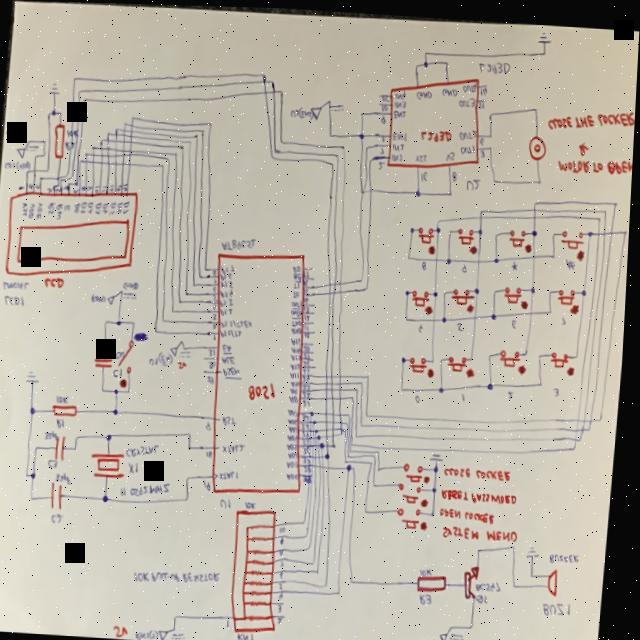capacitor: (53, 479, 68, 509), (57, 433, 69, 461), (95, 354, 116, 369)
crossover: (477, 254, 483, 261), (591, 413, 597, 419), (121, 159, 126, 166), (329, 287, 334, 294), (533, 210, 538, 216), (475, 310, 480, 316), (531, 306, 536, 312), (435, 253, 440, 259), (585, 413, 590, 419), (583, 422, 588, 428), (33, 166, 38, 172), (128, 159, 133, 165), (106, 136, 111, 142), (114, 136, 119, 142), (122, 137, 127, 143), (129, 138, 134, 144), (114, 144, 119, 150), (84, 157, 89, 163), (332, 384, 337, 390), (340, 384, 345, 390), (340, 371, 345, 377), (340, 286, 345, 292), (327, 424, 332, 430), (100, 143, 104, 150), (100, 151, 104, 158), (327, 370, 331, 377), (329, 279, 333, 286), (479, 211, 484, 216), (327, 408, 332, 413), (261, 77, 266, 82), (434, 313, 438, 319), (533, 250, 537, 256), (598, 226, 602, 232), (604, 226, 608, 232), (610, 225, 614, 231), (577, 432, 581, 438), (578, 422, 582, 428), (579, 412, 583, 418), (106, 144, 110, 150), (92, 150, 96, 156), (107, 152, 111, 158), (115, 151, 119, 157), (114, 159, 118, 165), (107, 159, 111, 165), (100, 158, 104, 164), (92, 157, 96, 163), (341, 392, 345, 398), (327, 384, 331, 390), (333, 392, 337, 398), (327, 393, 331, 399), (332, 371, 336, 377), (327, 378, 331, 384), (340, 277, 344, 283), (334, 287, 338, 293), (334, 279, 338, 285), (329, 440, 333, 446), (334, 429, 338, 435), (334, 423, 338, 429), (272, 86, 276, 92), (263, 87, 267, 93), (122, 152, 126, 157), (340, 379, 344, 384), (332, 378, 336, 383), (369, 185, 373, 190), (328, 417, 332, 422), (342, 417, 346, 422), (341, 409, 345, 414), (334, 408, 338, 413), (325, 462, 329, 467), (534, 203, 538, 208), (128, 151, 132, 155), (122, 147, 126, 151), (129, 147, 133, 151), (129, 133, 133, 137), (122, 131, 126, 135), (114, 131, 118, 135), (122, 126, 126, 130), (129, 127, 133, 131), (130, 122, 134, 126), (328, 432, 332, 436), (335, 416, 338, 421), (315, 433, 318, 438), (331, 462, 334, 466), (312, 440, 314, 446), (321, 452, 324, 456), (312, 460, 315, 464), (318, 460, 321, 464), (322, 461, 325, 465), (363, 187, 365, 192), (318, 433, 320, 438), (316, 440, 318, 445), (321, 440, 323, 445), (324, 451, 326, 456), (315, 451, 317, 456), (312, 451, 314, 456), (313, 417, 315, 421), (313, 426, 315, 430), (315, 426, 317, 430), (313, 433, 315, 437), (318, 440, 320, 444), (318, 452, 320, 456), (315, 460, 317, 464)
ground: (529, 540, 545, 555), (47, 79, 61, 94), (535, 27, 551, 40), (29, 369, 43, 382), (433, 449, 448, 460)
junction: (114, 406, 123, 416), (489, 377, 497, 386), (109, 431, 116, 440), (358, 129, 365, 137), (117, 317, 124, 325), (442, 312, 449, 320), (447, 254, 454, 262), (477, 224, 484, 232), (436, 462, 443, 470), (532, 282, 538, 291), (583, 283, 589, 292), (107, 492, 113, 501), (532, 225, 538, 233), (416, 186, 422, 194), (493, 309, 499, 317), (441, 382, 447, 390), (116, 386, 122, 394), (422, 57, 428, 65), (436, 221, 442, 229), (33, 405, 39, 413), (475, 283, 481, 291), (488, 108, 494, 115), (434, 287, 440, 294), (403, 353, 409, 360), (495, 252, 500, 260), (190, 442, 195, 450), (189, 472, 194, 480), (410, 223, 415, 231), (589, 225, 594, 233), (494, 284, 499, 292), (350, 461, 355, 469), (51, 107, 56, 115), (443, 57, 449, 63), (99, 136, 105, 142), (315, 556, 321, 562), (311, 542, 317, 548), (534, 568, 539, 575), (516, 578, 521, 585), (354, 575, 359, 582), (368, 505, 373, 512), (335, 150, 340, 157), (133, 318, 138, 325), (414, 60, 418, 68), (103, 385, 108, 391), (190, 429, 195, 435), (406, 313, 411, 319), (549, 305, 554, 311), (188, 494, 193, 500), (328, 129, 333, 135), (474, 620, 479, 626), (33, 494, 38, 500), (407, 251, 412, 257), (328, 450, 333, 456), (488, 129, 493, 135), (540, 46, 545, 52), (614, 196, 619, 202), (172, 306, 177, 312), (199, 271, 204, 277), (160, 160, 165, 166), (174, 149, 179, 155), (188, 137, 193, 143), (81, 96, 86, 102), (46, 110, 51, 116), (328, 580, 333, 586), (435, 483, 440, 489), (488, 141, 493, 147), (326, 96, 331, 102), (533, 102, 537, 109), (481, 543, 485, 550), (526, 346, 530, 353), (433, 354, 437, 361), (156, 326, 160, 333), (180, 296, 184, 303), (58, 109, 62, 116), (75, 179, 79, 186), (323, 439, 327, 446), (479, 205, 484, 210), (441, 354, 446, 359), (270, 152, 275, 157), (35, 471, 39, 477), (360, 108, 364, 114), (403, 383, 407, 389), (179, 612, 183, 618), (449, 187, 453, 193), (106, 317, 110, 323), (550, 285, 554, 291), (72, 75, 76, 81), (540, 349, 544, 355), (541, 377, 545, 383), (490, 349, 494, 355), (78, 434, 82, 440), (37, 443, 41, 449), (577, 349, 581, 355), (553, 249, 557, 255), (553, 227, 557, 233), (534, 196, 538, 202), (449, 225, 453, 231), (538, 174, 542, 180), (575, 441, 579, 447), (493, 173, 497, 179), (92, 143, 96, 149), (114, 124, 118, 130), (335, 440, 339, 446), (604, 204, 608, 210), (624, 224, 628, 230), (163, 315, 167, 321), (186, 289, 190, 295), (194, 279, 198, 285), (205, 264, 209, 270), (167, 155, 171, 161), (180, 142, 184, 148), (194, 132, 198, 138), (201, 126, 205, 132), (209, 119, 213, 125), (131, 114, 135, 120), (85, 150, 89, 156), (77, 87, 81, 93), (42, 138, 46, 144), (342, 587, 346, 593), (321, 566, 325, 572), (309, 529, 313, 535), (306, 517, 310, 523), (435, 508, 439, 514), (77, 444, 81, 450), (342, 142, 346, 148), (130, 386, 134, 392), (313, 408, 317, 414), (316, 416, 320, 422), (320, 431, 324, 437), (279, 86, 283, 92), (472, 352, 476, 358), (407, 286, 411, 292), (495, 228, 499, 234), (124, 118, 127, 125), (368, 410, 372, 415), (602, 412, 606, 417), (581, 433, 585, 438), (46, 166, 50, 171), (65, 171, 70, 175), (25, 169, 30, 173), (516, 541, 520, 546), (366, 283, 370, 288), (331, 159, 335, 164), (280, 137, 284, 142), (178, 624, 182, 629), (437, 215, 441, 220), (381, 463, 384, 469), (40, 174, 43, 180), (183, 337, 186, 343), (375, 480, 379, 484), (598, 213, 602, 217), (590, 422, 594, 426), (34, 153, 38, 157), (42, 152, 46, 156), (71, 174, 75, 178), (455, 621, 459, 625), (361, 276, 365, 280), (369, 155, 373, 159), (365, 142, 369, 146), (317, 426, 321, 430), (270, 77, 274, 81), (27, 138, 31, 142), (121, 288, 125, 292), (445, 288, 449, 292), (79, 158, 82, 163), (52, 184, 57, 187), (274, 146, 277, 151), (262, 70, 265, 75), (29, 472, 32, 477), (343, 428, 346, 432), (380, 447, 383, 451), (373, 458, 376, 462), (363, 420, 366, 424), (353, 393, 356, 397), (350, 410, 353, 414), (363, 378, 366, 382), (358, 385, 361, 389), (369, 371, 372, 375), (107, 130, 110, 134), (185, 344, 188, 348), (376, 450, 379, 454), (347, 425, 349, 430), (57, 174, 59, 179), (356, 463, 358, 467), (348, 456, 350, 460), (351, 451, 353, 455), (354, 446, 356, 450), (354, 439, 356, 443), (359, 431, 361, 435), (349, 418, 351, 422), (61, 177, 63, 181), (59, 175, 61, 179), (58, 182, 60, 186), (424, 47, 426, 51), (68, 181, 70, 185), (361, 188, 363, 190)
resistor: (420, 569, 452, 590), (52, 122, 66, 157), (55, 402, 81, 417)
switch: (120, 337, 138, 373), (398, 503, 426, 526), (401, 479, 426, 500), (500, 344, 524, 364), (561, 226, 586, 245), (406, 458, 428, 479), (452, 284, 477, 302), (448, 350, 470, 370), (551, 347, 572, 367), (410, 351, 430, 370), (504, 281, 524, 300), (412, 285, 432, 304), (457, 223, 477, 242), (509, 224, 527, 243), (418, 222, 436, 241), (558, 284, 578, 301)
terminal: (309, 103, 322, 118), (16, 146, 27, 158), (163, 628, 174, 640), (445, 629, 453, 640), (172, 344, 180, 355), (108, 293, 116, 303)
text: (546, 101, 636, 131), (136, 564, 224, 587), (556, 150, 634, 173), (445, 484, 521, 503), (446, 520, 522, 539), (442, 502, 500, 522), (123, 477, 175, 499), (447, 462, 515, 477), (250, 379, 279, 399), (129, 441, 163, 458), (221, 234, 258, 249), (546, 596, 576, 614), (422, 124, 453, 140), (478, 56, 510, 71), (553, 547, 584, 561), (151, 348, 176, 365), (479, 575, 507, 590), (289, 103, 314, 118), (222, 316, 254, 327), (4, 278, 31, 291), (5, 292, 28, 307), (45, 274, 66, 289), (225, 440, 249, 453), (5, 158, 31, 170), (141, 626, 163, 640), (225, 364, 246, 378), (222, 325, 244, 338), (57, 469, 76, 483), (458, 124, 477, 138), (117, 622, 134, 637), (459, 139, 476, 153), (458, 93, 476, 106), (223, 467, 242, 479), (466, 174, 482, 188), (223, 412, 240, 425), (242, 629, 261, 640), (6, 127, 20, 141), (423, 589, 438, 602), (577, 137, 590, 152), (124, 279, 141, 290), (415, 86, 432, 97), (441, 83, 458, 94), (93, 290, 108, 302), (461, 77, 476, 89), (565, 253, 577, 267), (48, 429, 63, 440), (222, 261, 236, 272), (223, 353, 238, 363), (224, 495, 236, 507), (36, 201, 44, 219), (55, 512, 68, 523), (221, 295, 235, 305), (221, 286, 235, 296), (393, 128, 407, 138), (392, 106, 406, 116), (28, 201, 36, 218), (56, 201, 64, 218), (131, 460, 142, 472), (59, 393, 72, 403), (109, 200, 117, 216), (222, 277, 236, 286), (481, 590, 493, 600), (223, 342, 235, 352), (222, 304, 234, 314), (392, 139, 404, 149), (394, 87, 406, 97), (48, 200, 56, 215), (292, 306, 304, 316), (424, 564, 437, 573), (393, 97, 406, 106), (65, 139, 76, 149), (115, 365, 125, 376), (116, 348, 127, 358), (293, 297, 304, 307), (293, 262, 304, 272), (429, 634, 447, 640), (248, 498, 260, 507), (206, 477, 215, 489), (415, 150, 427, 159), (67, 127, 79, 136), (22, 200, 29, 215), (289, 470, 302, 478), (289, 457, 302, 465), (59, 416, 68, 427), (447, 147, 456, 158), (420, 168, 429, 179), (305, 472, 316, 481), (123, 199, 130, 213), (221, 270, 233, 278), (292, 350, 304, 358), (290, 448, 302, 456), (290, 431, 302, 439), (512, 256, 520, 268), (95, 200, 102, 213), (209, 358, 219, 367), (51, 458, 61, 467), (392, 149, 402, 158), (179, 359, 190, 367), (292, 360, 303, 368), (292, 334, 303, 342), (293, 324, 304, 332), (290, 440, 301, 448), (291, 415, 302, 423), (290, 406, 301, 414), (419, 319, 426, 331), (451, 167, 458, 179), (81, 200, 88, 212), (117, 199, 123, 213), (304, 356, 313, 365), (207, 418, 215, 428), (208, 447, 216, 457), (458, 318, 466, 328), (380, 91, 390, 99), (479, 82, 487, 92), (291, 393, 301, 401), (294, 343, 304, 351), (294, 272, 304, 280), (291, 423, 301, 431), (303, 419, 313, 427), (304, 444, 314, 452), (462, 258, 469, 269), (209, 373, 217, 382), (378, 158, 386, 167), (88, 200, 94, 212), (103, 201, 109, 213), (305, 396, 313, 405), (292, 384, 301, 392), (304, 410, 313, 418), (417, 390, 424, 400), (562, 311, 569, 321), (555, 383, 562, 393), (379, 111, 386, 121), (293, 378, 303, 385), (292, 369, 302, 376), (304, 454, 314, 461), (398, 636, 415, 640), (513, 315, 519, 326), (75, 201, 81, 212), (509, 386, 517, 394), (210, 346, 218, 354), (304, 364, 312, 372), (304, 284, 312, 292), (304, 427, 312, 435), (304, 435, 312, 443), (306, 462, 314, 470), (304, 372, 313, 379), (422, 257, 428, 267), (463, 388, 469, 398), (293, 318, 303, 324), (213, 311, 220, 319), (477, 97, 484, 105), (109, 182, 116, 190), (305, 388, 313, 395), (305, 342, 313, 349), (294, 288, 301, 296), (479, 133, 485, 142), (305, 320, 311, 329), (306, 310, 312, 319), (305, 302, 311, 311), (230, 616, 235, 626), (381, 101, 388, 108), (479, 146, 485, 154), (65, 203, 71, 211), (284, 523, 290, 531), (305, 381, 313, 387), (305, 350, 313, 356), (304, 293, 310, 301), (305, 267, 311, 275), (95, 183, 100, 192), (123, 181, 128, 190), (282, 602, 287, 611), (214, 292, 220, 299), (35, 182, 42, 188), (56, 185, 62, 192), (87, 183, 94, 189), (282, 614, 288, 621), (283, 580, 289, 587), (295, 279, 301, 286), (304, 276, 310, 283), (284, 557, 289, 565), (102, 183, 107, 191), (117, 182, 122, 190), (283, 590, 288, 598), (283, 546, 288, 554), (284, 533, 288, 542), (214, 321, 220, 327), (47, 186, 53, 192), (63, 184, 69, 190), (74, 186, 80, 192), (81, 184, 87, 190), (306, 329, 312, 335), (214, 331, 219, 338), (380, 144, 385, 151), (284, 569, 288, 577), (29, 181, 33, 189), (214, 284, 219, 290), (19, 185, 25, 190), (215, 301, 219, 308), (214, 275, 218, 281), (214, 267, 218, 273), (381, 133, 385, 139)
transistor: (467, 561, 484, 595)
